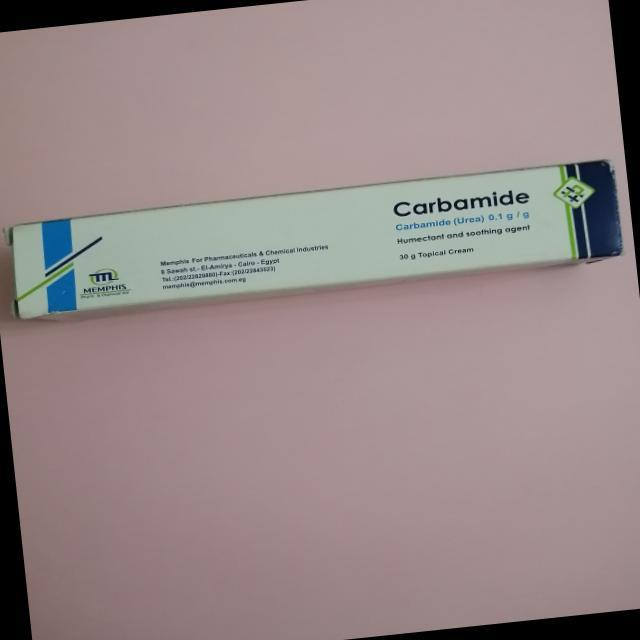Medicine Name: (383, 179, 547, 224)
